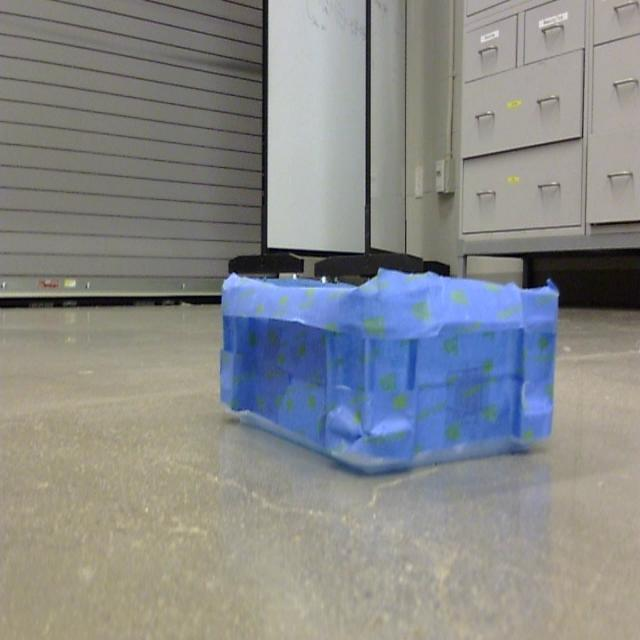bucket: (218, 263, 560, 478)
